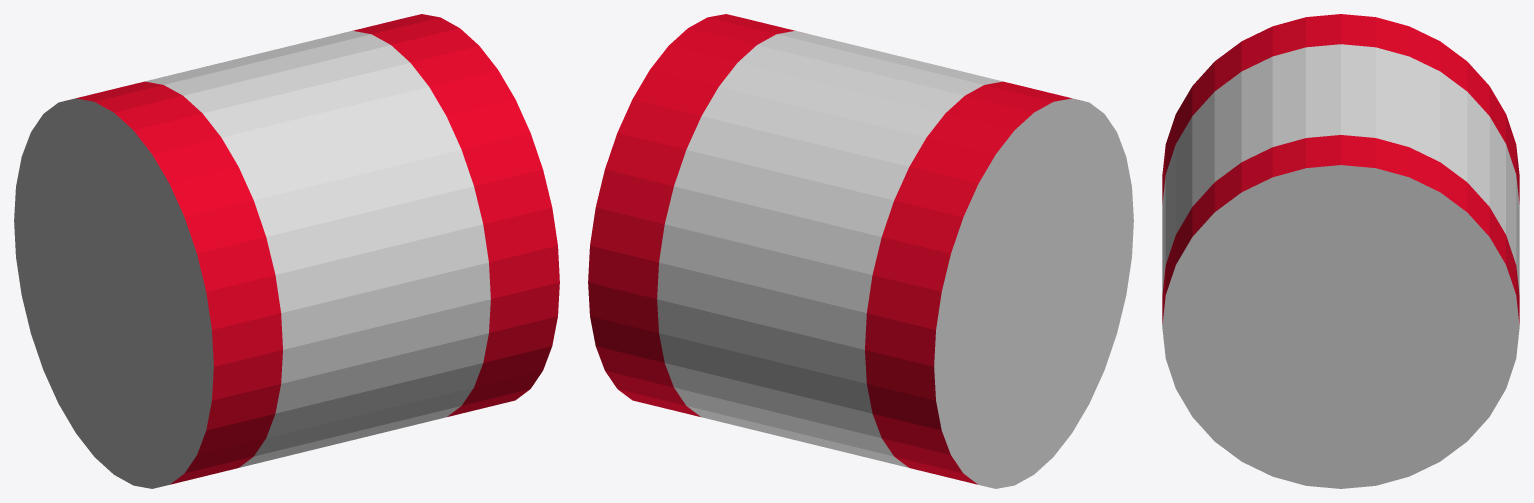
The model's file is Road.fbx.
3 views of the same model, side by side, from view 1: azimuth 30°, elevation 25°; view 2: azimuth 150°, elevation 25°; view 3: azimuth 270°, elevation 25° (orthographic). The views are drawn at different scales.
Parts seen in each view (by area): view 1: Road; view 2: Road; view 3: Road.
Boxes of the visible parts, x1,y1,x2,y2 form: Road: (14, 14, 559, 488); Road: (588, 14, 1133, 488); Road: (1162, 14, 1519, 488).
Bounding box in the file's own units: 2000 × 2000 × 2000.
